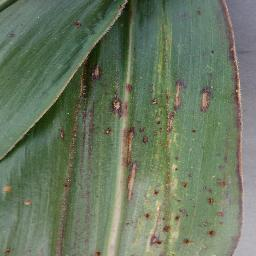Gray_Leaf_Spot: (59, 60, 154, 205), (219, 2, 252, 252), (152, 66, 187, 256), (203, 182, 225, 256), (121, 211, 152, 256), (154, 15, 177, 68), (55, 211, 77, 256), (191, 83, 221, 113), (102, 0, 129, 17), (1, 180, 15, 198), (19, 195, 35, 210), (66, 17, 86, 29), (0, 27, 17, 40), (90, 242, 105, 256), (194, 4, 207, 17), (0, 247, 15, 256), (185, 126, 201, 134)
